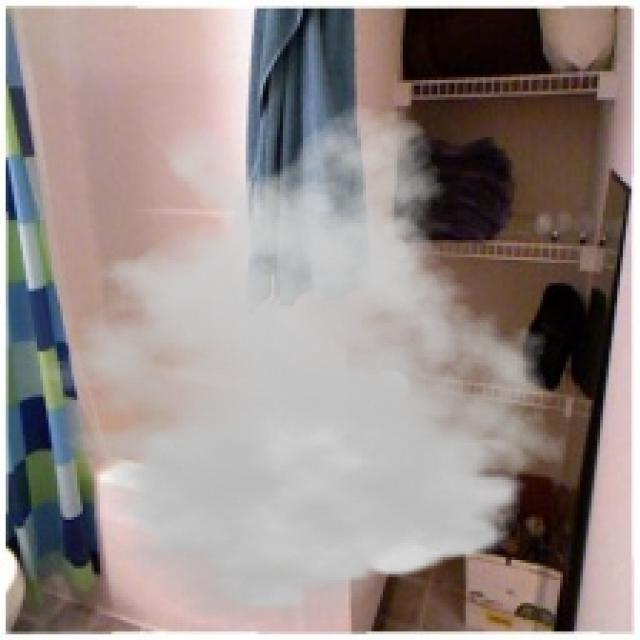Smoke: (11, 102, 578, 628)
